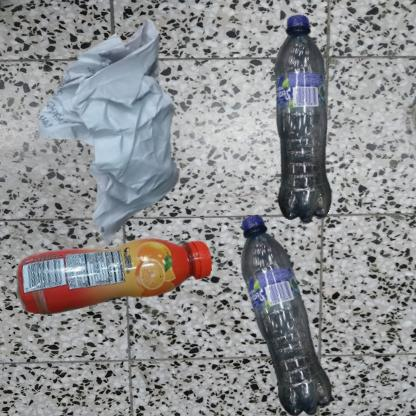botella: (213, 10, 416, 281), (213, 213, 367, 416), (10, 213, 233, 350)
papel: (10, 10, 268, 290)
